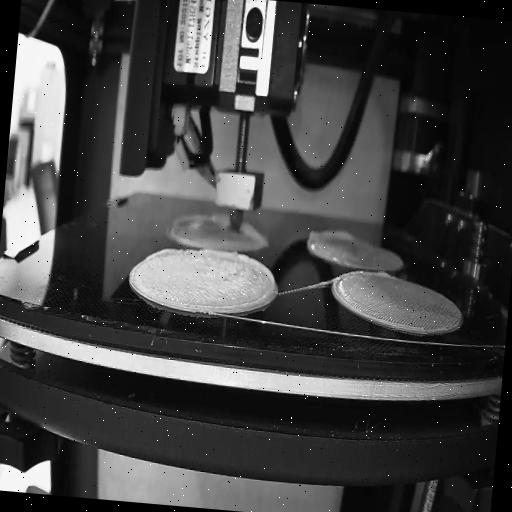over_extrusion: (228, 252, 278, 314), (304, 224, 356, 248), (146, 242, 184, 263), (240, 219, 266, 245), (210, 210, 230, 224), (373, 269, 392, 283)
